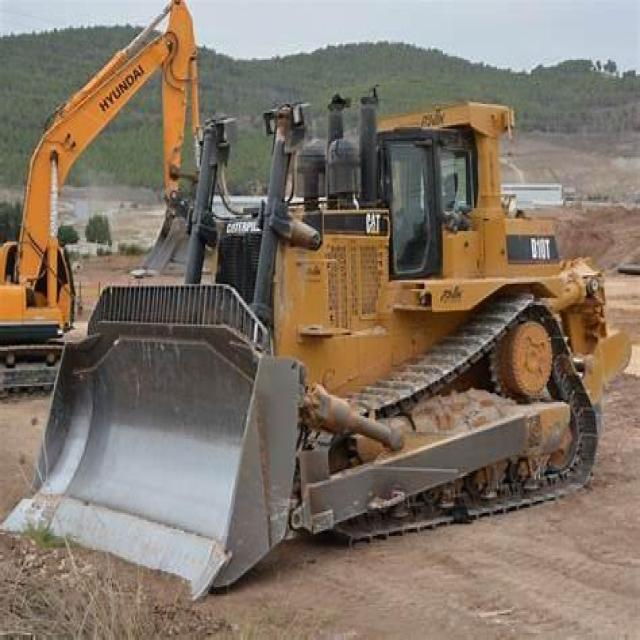buldozerpayloadergrader: (23, 88, 637, 587)
